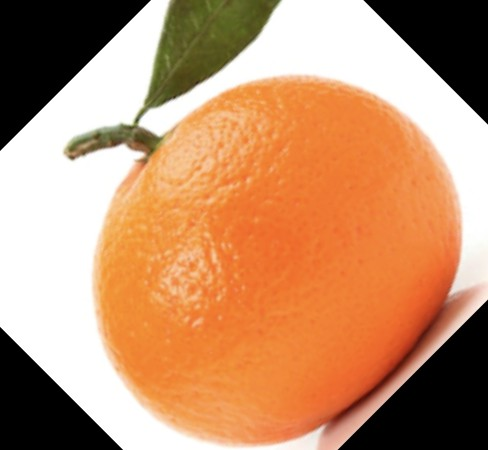fresh_orange: (88, 74, 463, 440)
